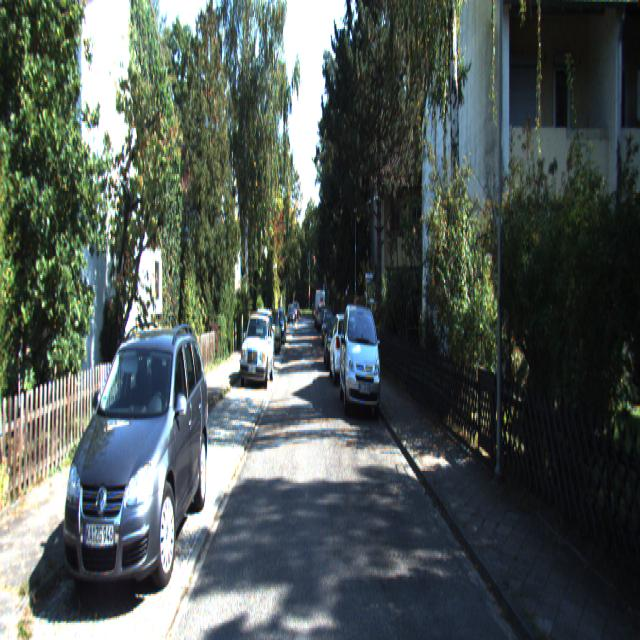Car: (57, 325, 209, 629), (338, 300, 384, 419), (240, 311, 274, 390), (329, 313, 360, 390)
